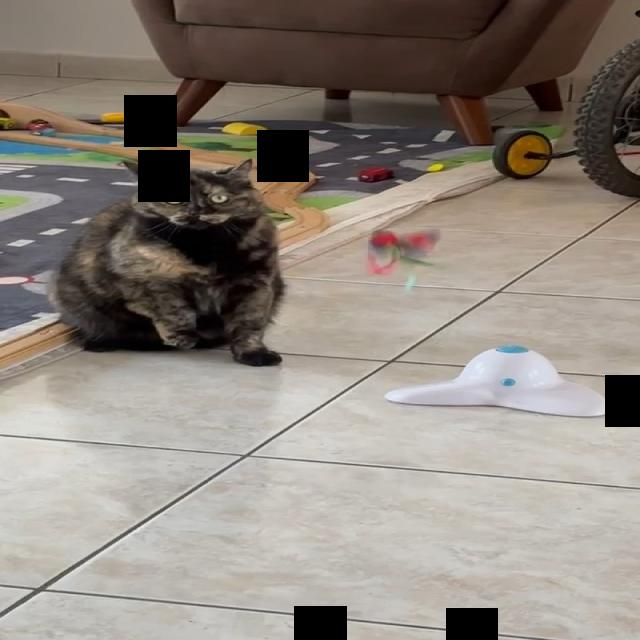authorized: (46, 157, 286, 367)
